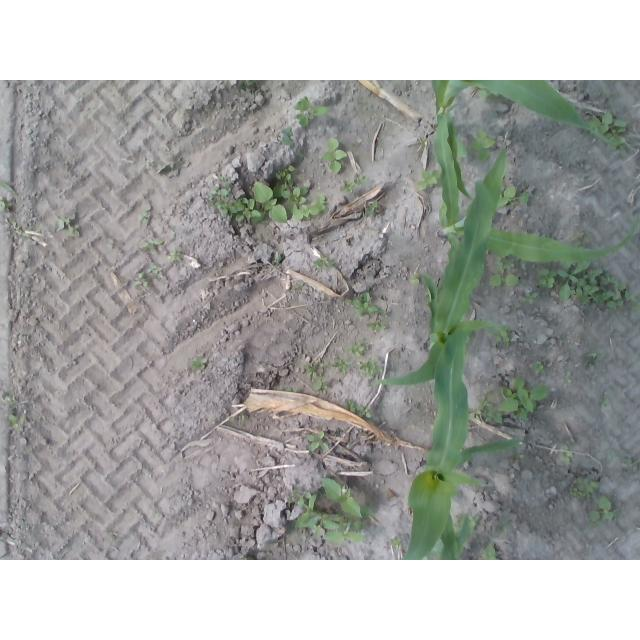Maize: (372, 138, 509, 387), (433, 113, 640, 277), (396, 322, 504, 555), (430, 80, 623, 196), (419, 513, 477, 560)
Weeds: (287, 476, 374, 544), (536, 259, 640, 313), (275, 165, 327, 221), (206, 176, 261, 223), (498, 376, 548, 421), (584, 111, 629, 154), (250, 182, 289, 225), (469, 391, 504, 425), (294, 96, 330, 126), (348, 291, 389, 317), (589, 495, 620, 527), (321, 138, 348, 174), (489, 256, 520, 287), (495, 180, 529, 208), (304, 360, 332, 394), (469, 131, 495, 162), (569, 477, 600, 499), (451, 513, 479, 537), (132, 265, 161, 288), (341, 399, 371, 421), (490, 324, 513, 349), (341, 173, 368, 193), (306, 431, 330, 453), (417, 169, 443, 189), (357, 358, 384, 377), (53, 216, 77, 234), (479, 89, 509, 103), (138, 239, 165, 254), (569, 231, 591, 247), (347, 342, 369, 358), (313, 257, 336, 272), (280, 127, 297, 147), (333, 356, 352, 373), (12, 223, 41, 234), (6, 414, 24, 431), (557, 444, 572, 464), (482, 544, 499, 561), (135, 210, 151, 226), (600, 89, 618, 103), (583, 352, 602, 365), (364, 200, 381, 214), (191, 357, 208, 370), (623, 458, 640, 471), (0, 195, 12, 213), (522, 292, 539, 304), (366, 321, 386, 331), (533, 360, 547, 374), (495, 519, 509, 533), (389, 535, 403, 549), (237, 80, 255, 89), (170, 251, 181, 262), (564, 371, 573, 384), (600, 397, 611, 407), (0, 394, 12, 403), (411, 275, 420, 283), (283, 387, 297, 392), (514, 454, 525, 459), (292, 285, 300, 291), (275, 257, 281, 264)
